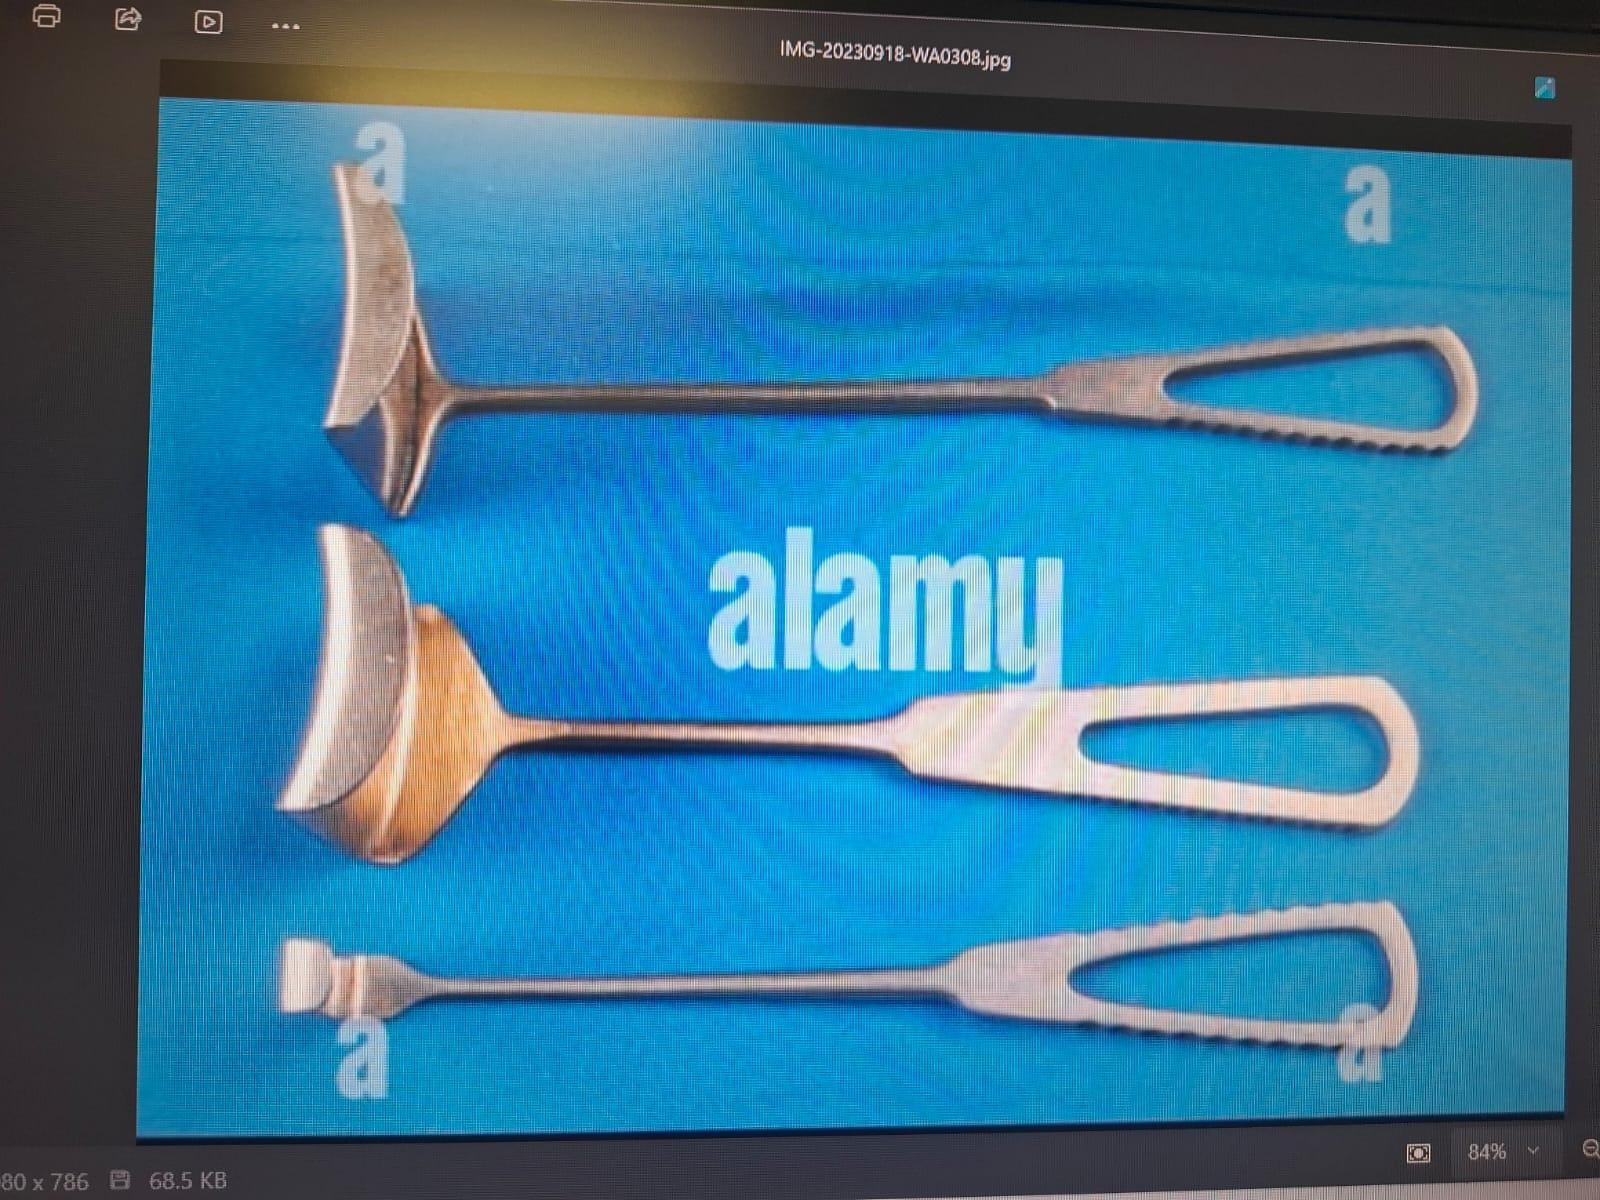Morris Retractor: (312, 147, 1495, 526), (266, 512, 1420, 858)
